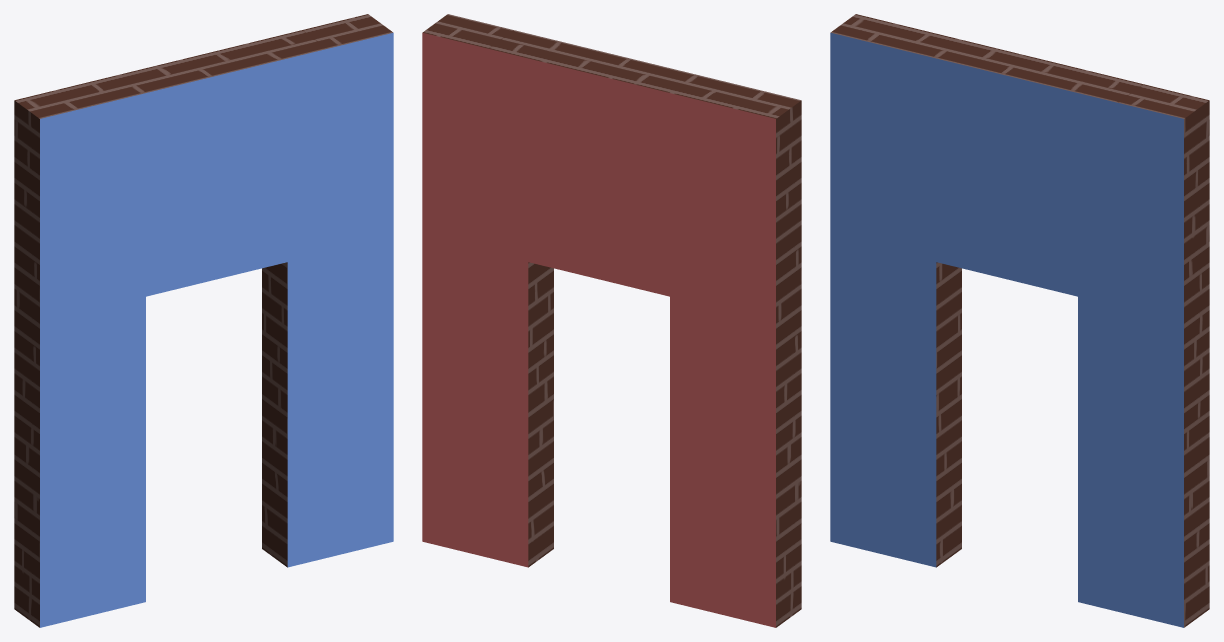
The model's file is wall1_4x5.5.FBX.
3 renders of one model, left to right at view 1: azimuth 30°, elevation 25°; view 2: azimuth 150°, elevation 25°; view 3: azimuth 330°, elevation 25°, orthographic.
Parts seen in each view (by area): view 1: wall1_4x5.5; view 2: wall1_4x5.5; view 3: wall1_4x5.5.
Boxes of the visible parts, <box> form: wall1_4x5.5: <box>14,14,393,627</box>; wall1_4x5.5: <box>422,14,801,627</box>; wall1_4x5.5: <box>830,14,1209,627</box>.
Size of the model in its own units: 400 by 550 by 50.
